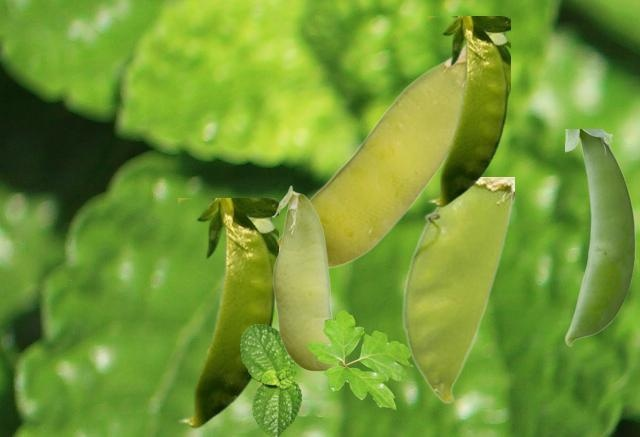pea: (278, 47, 464, 267), (402, 177, 513, 402), (178, 198, 277, 427), (427, 16, 509, 206), (271, 185, 347, 382), (565, 129, 634, 345)
